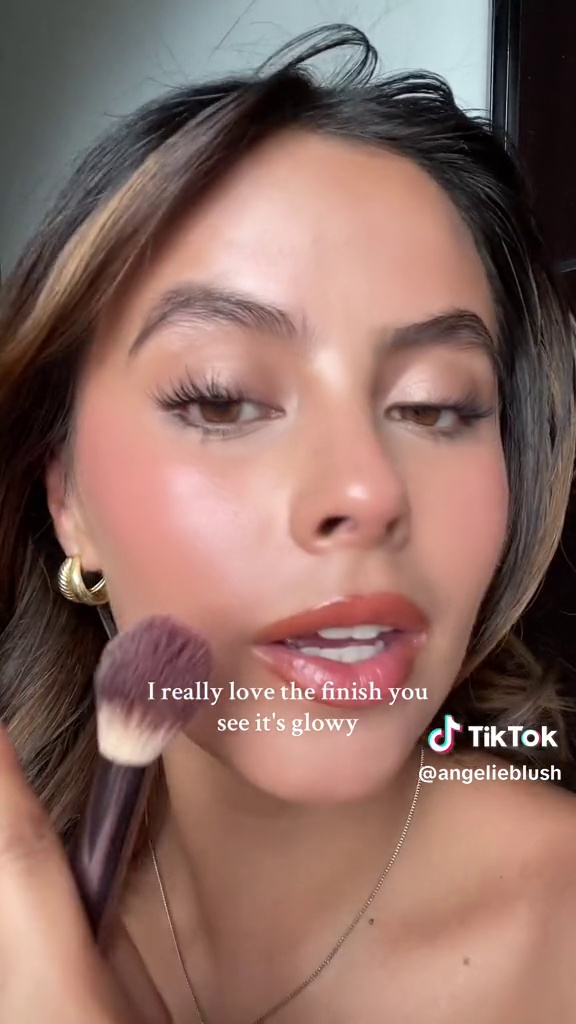train' :'yolo_data/train/images',: (1, 617, 230, 1023)
